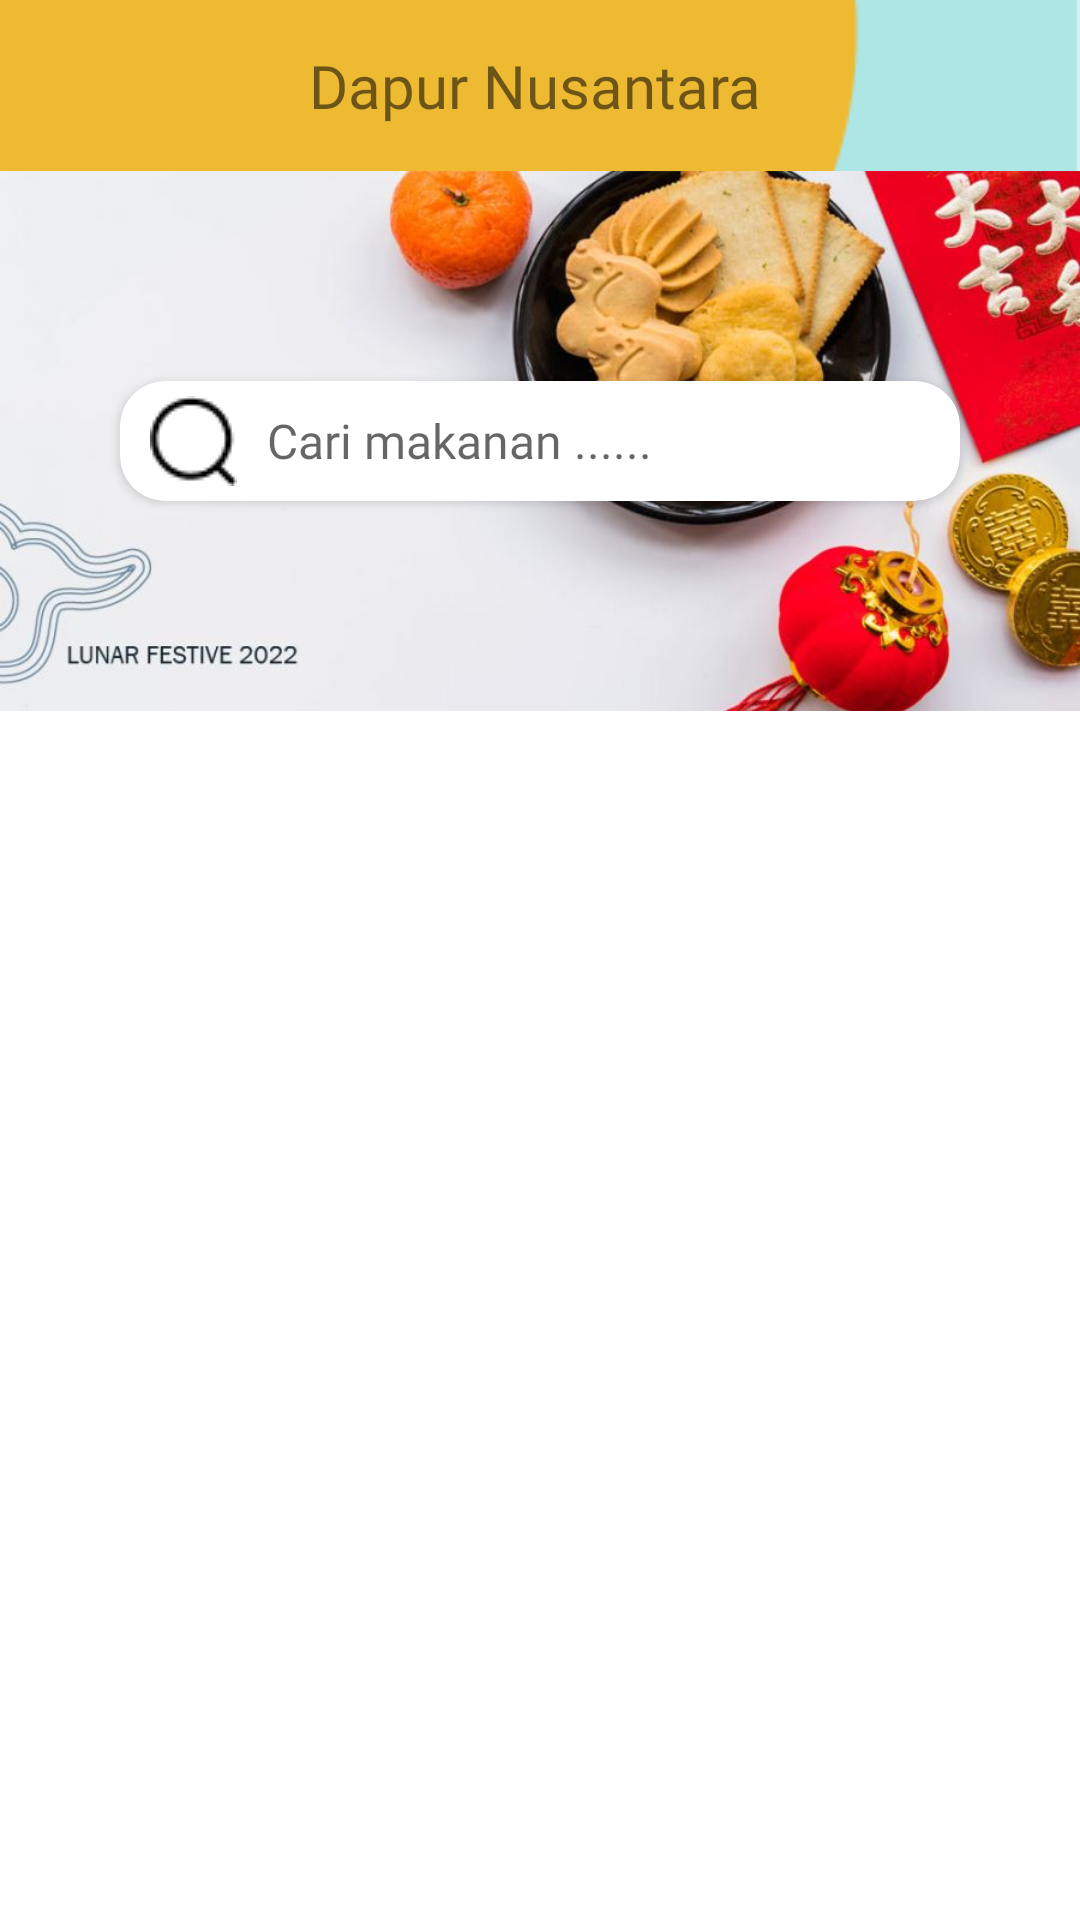

Where to tap for icons on this 1080px x 1920px app screen, as point (x, y):
search: point (193, 441)
